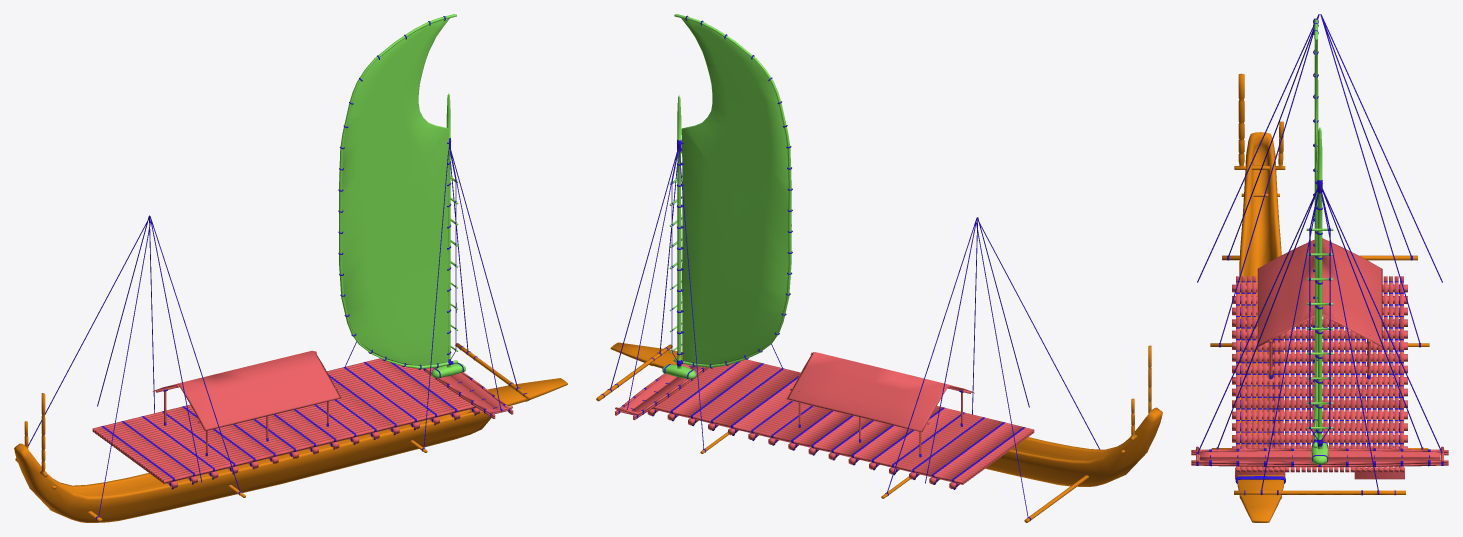
File: SM_Tipairua_Test.fbx
3 views of the same model, side by side, from view 1: azimuth 30°, elevation 25°; view 2: azimuth 150°, elevation 25°; view 3: azimuth 270°, elevation 25° (orthographic). The views are drawn at different scales.
Visible parts, largest first — view 1: SM_TIpairua_Sails, SM_TIpairua_Desk, SM_TIpairua_Canoe, SM_TIpairua_BackRopes, SM_TIpairua_FrontRopes, SM_TIpairua_Desk_ForSail, SM_TIpairua_Sticks; view 2: SM_TIpairua_Sails, SM_TIpairua_Desk, SM_TIpairua_Canoe, SM_TIpairua_BackRopes, SM_TIpairua_Desk_ForSail, SM_TIpairua_FrontRopes, SM_TIpairua_Sticks; view 3: SM_TIpairua_Desk, SM_TIpairua_Canoe, SM_TIpairua_Sails, SM_TIpairua_Desk_ForSail, SM_TIpairua_BackRopes, SM_TIpairua_FrontRopes, SM_TIpairua_Sticks, SM_TIpairua_Sails_Base.
Part boxes in pixels (x1,y1,x2,y2): SM_TIpairua_Sails: (338, 14, 458, 369); SM_TIpairua_Desk: (92, 350, 480, 489); SM_TIpairua_Canoe: (14, 378, 567, 522); SM_TIpairua_BackRopes: (17, 215, 241, 520); SM_TIpairua_FrontRopes: (345, 146, 520, 451); SM_TIpairua_Desk_ForSail: (422, 367, 513, 418); SM_TIpairua_Sticks: (15, 343, 531, 521); SM_TIpairua_Sails: (669, 14, 792, 368); SM_TIpairua_Desk: (647, 352, 1034, 489); SM_TIpairua_Canoe: (610, 342, 1162, 486); SM_TIpairua_BackRopes: (885, 217, 1100, 520); SM_TIpairua_Desk_ForSail: (615, 364, 708, 419); SM_TIpairua_FrontRopes: (607, 148, 782, 452); SM_TIpairua_Sticks: (596, 344, 1088, 522); SM_TIpairua_Desk: (1232, 238, 1407, 479); SM_TIpairua_Canoe: (1234, 73, 1285, 522); SM_TIpairua_Sails: (1306, 18, 1333, 449); SM_TIpairua_Desk_ForSail: (1191, 446, 1448, 467); SM_TIpairua_BackRopes: (1197, 14, 1442, 347); SM_TIpairua_FrontRopes: (1197, 188, 1442, 494); SM_TIpairua_Sticks: (1210, 255, 1429, 495); SM_TIpairua_Sails_Base: (1311, 442, 1328, 464).
Size of the model in its own units: 940 by 2713 by 1914.
